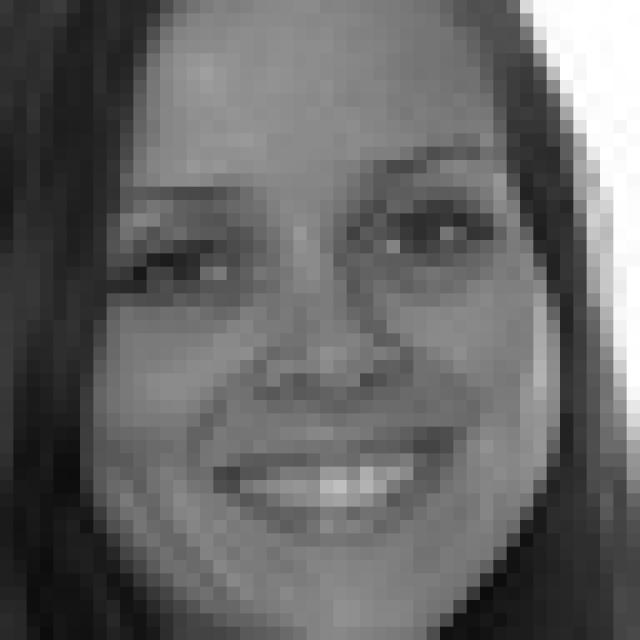happy: (107, 138, 517, 551)
